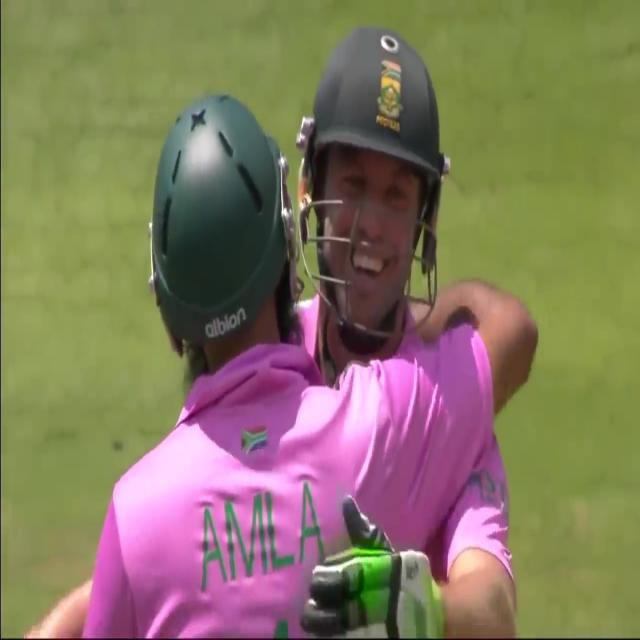Ball: (292, 34, 551, 638)
